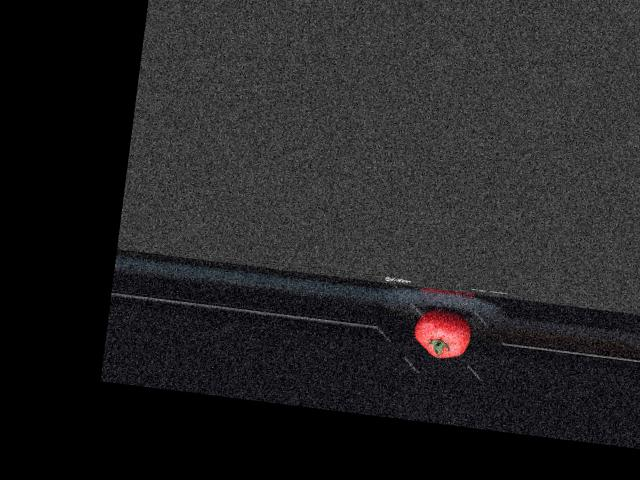tomato: (411, 306, 474, 362)
